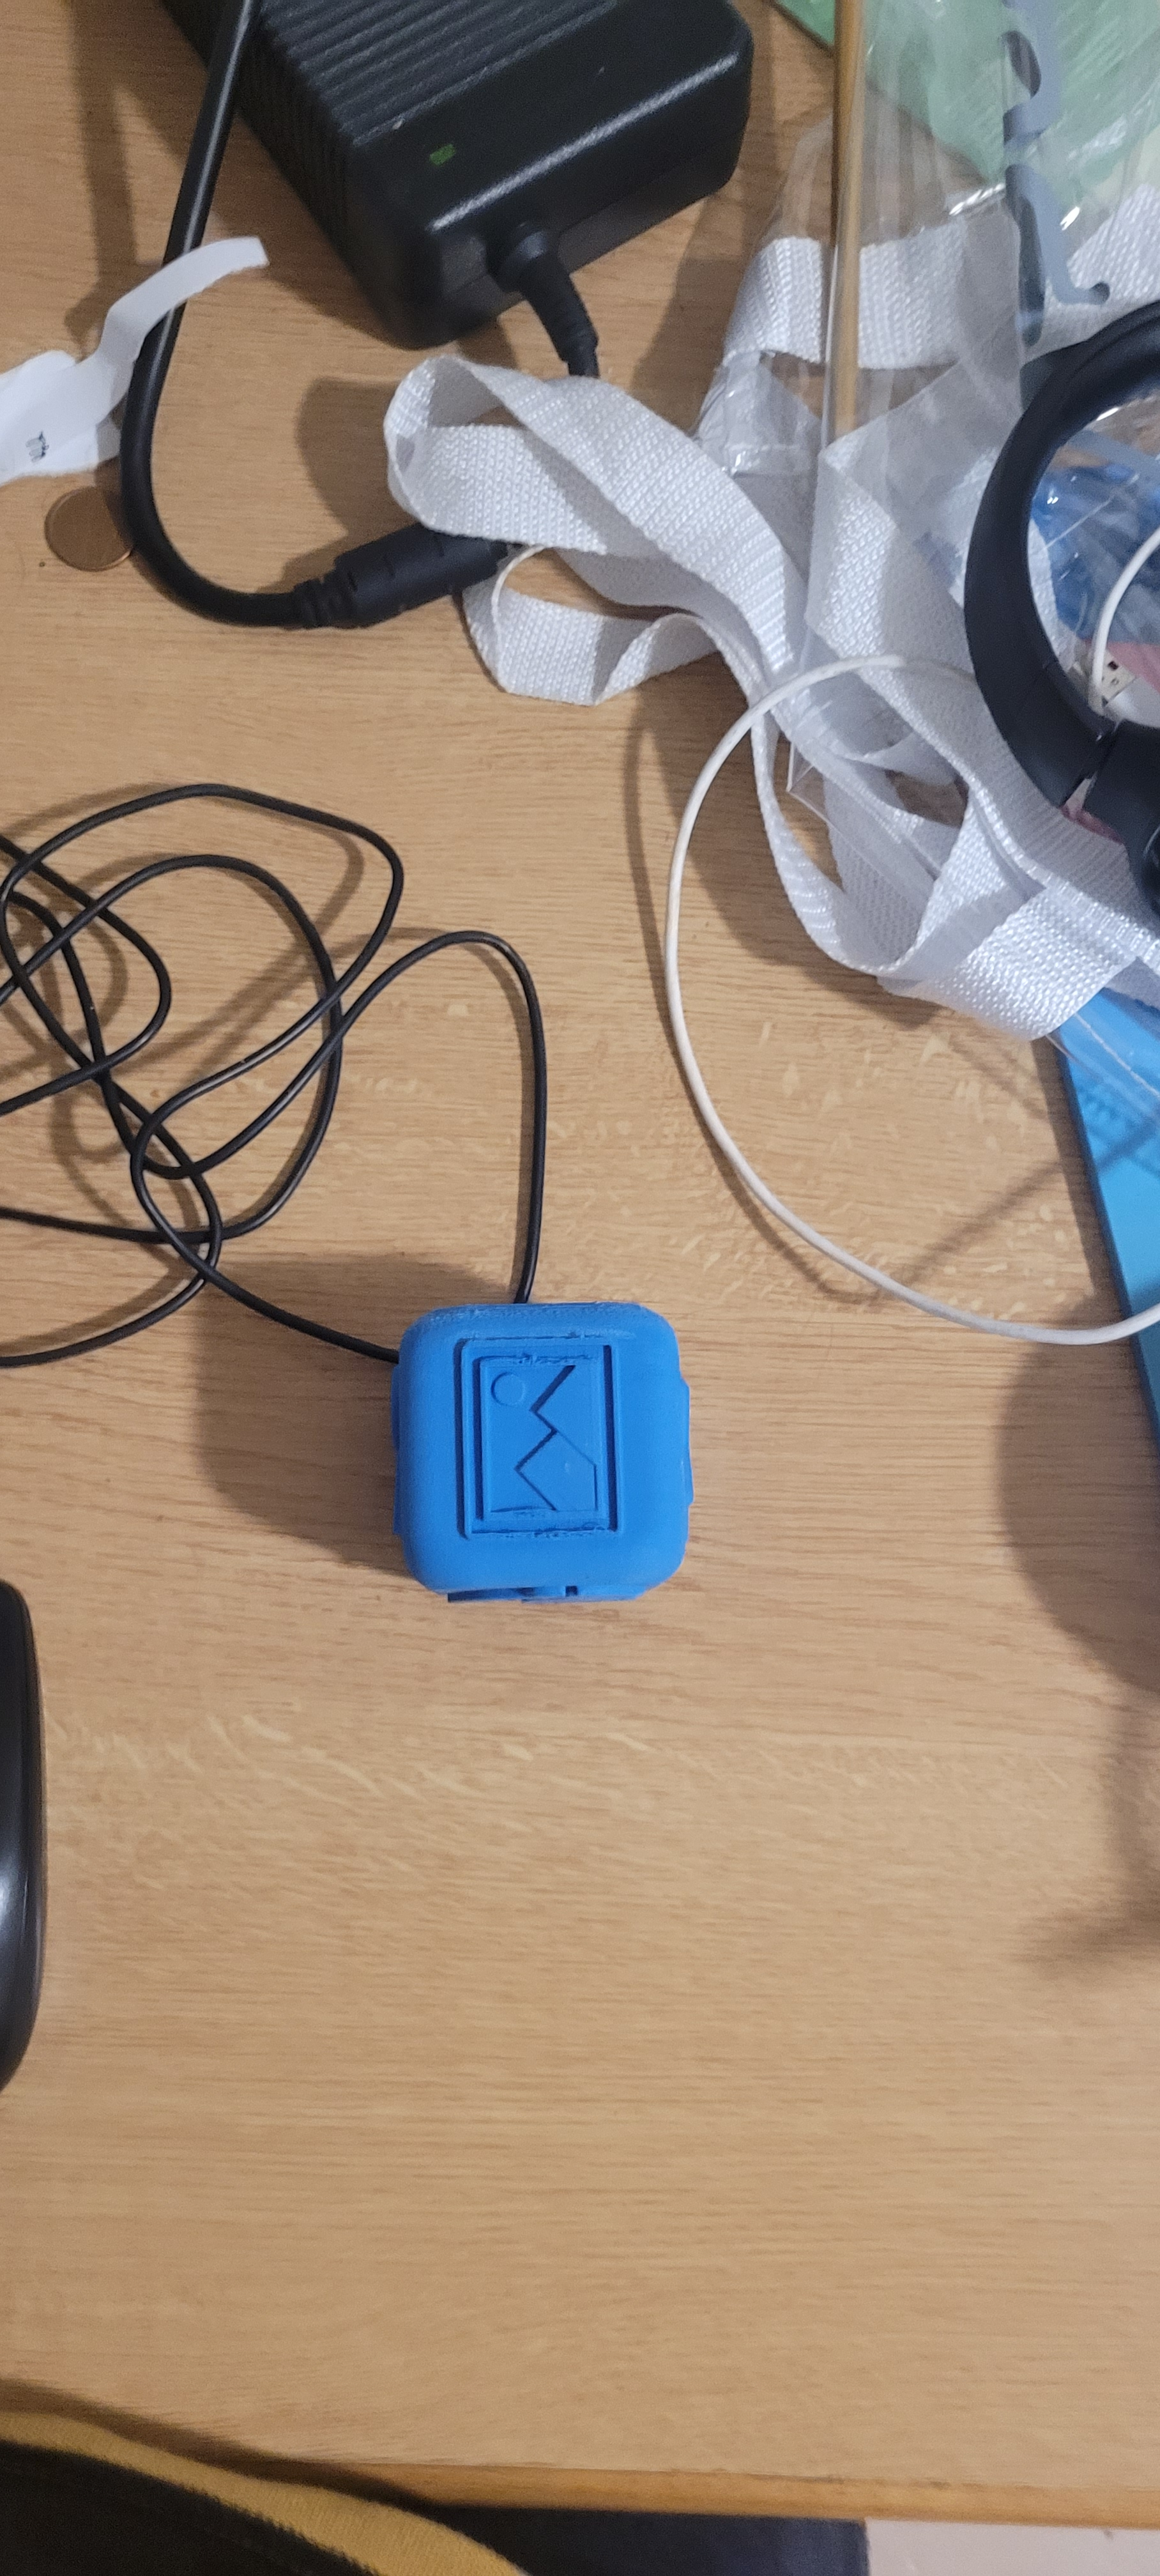Story: (434, 1337, 636, 1552)
